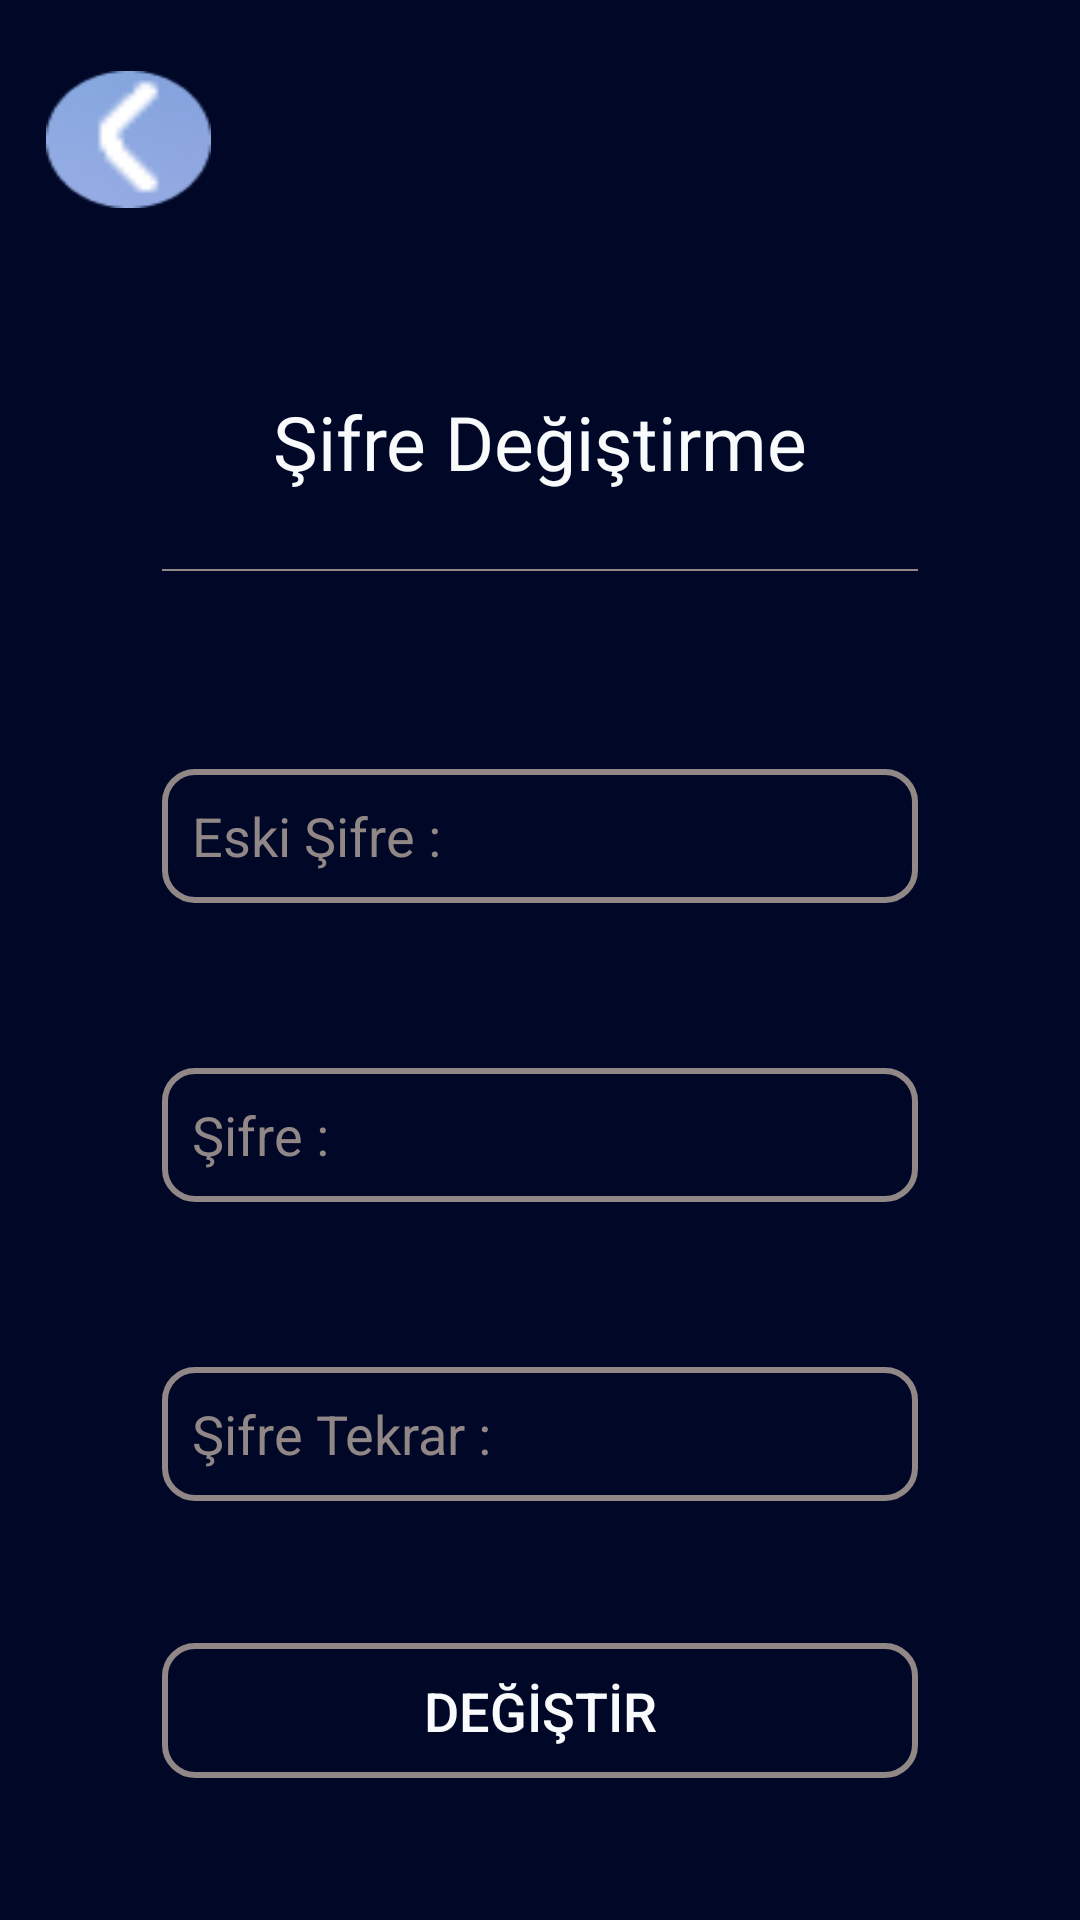

Screen size 1080 x 1920. Icon name, then its center in pixels as (x,y):
back: (128,139)
